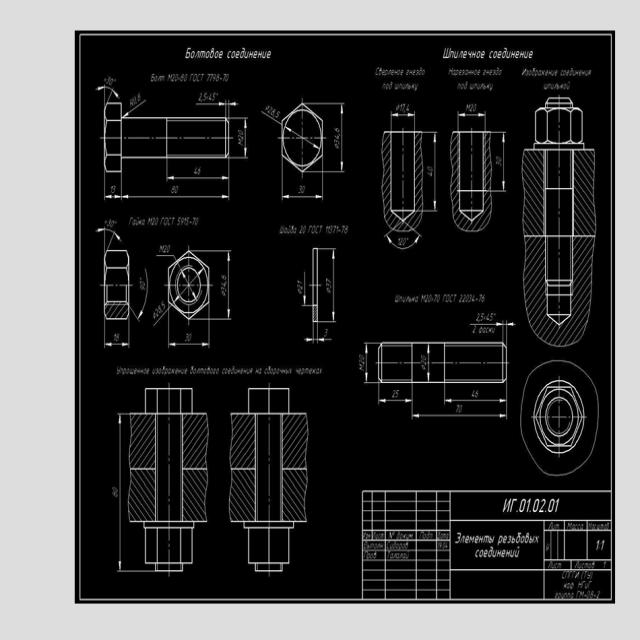marking_line: (123, 193, 228, 200), (118, 415, 122, 569), (446, 397, 507, 405), (433, 132, 438, 211), (413, 414, 507, 418), (168, 175, 228, 180), (340, 105, 344, 171), (170, 341, 209, 347), (284, 194, 322, 200), (332, 250, 335, 321), (227, 252, 230, 317), (379, 398, 411, 404), (243, 118, 248, 156), (426, 345, 431, 382), (502, 134, 505, 190), (470, 322, 502, 327), (364, 344, 368, 382), (106, 341, 129, 347), (196, 102, 225, 106), (392, 112, 414, 117), (459, 113, 485, 117), (303, 272, 306, 305), (106, 194, 120, 199), (229, 102, 241, 107), (320, 338, 334, 342), (507, 322, 516, 327), (305, 338, 313, 343)
numeric: (154, 302, 166, 319), (332, 124, 341, 143), (268, 107, 280, 119), (298, 185, 308, 195), (208, 90, 217, 101), (133, 94, 142, 105), (139, 281, 148, 292), (199, 93, 207, 103), (297, 280, 305, 290), (325, 278, 332, 289), (193, 165, 201, 174), (427, 166, 433, 178), (171, 184, 178, 194), (108, 218, 114, 229), (114, 332, 121, 341), (185, 333, 192, 342), (107, 77, 113, 87), (401, 102, 406, 114), (220, 274, 227, 282), (495, 154, 502, 162), (237, 129, 243, 138), (494, 161, 503, 167), (472, 325, 478, 334), (166, 244, 171, 254), (490, 311, 494, 322), (221, 281, 228, 287), (406, 105, 411, 113), (399, 237, 403, 247), (479, 313, 484, 321), (110, 186, 116, 192), (164, 246, 168, 255), (402, 237, 406, 246), (473, 104, 477, 113), (477, 311, 480, 322), (470, 103, 473, 113), (397, 238, 401, 245), (487, 313, 490, 322), (400, 103, 402, 112)
special_symbol: (383, 228, 423, 249), (96, 85, 121, 101), (333, 142, 339, 151)
